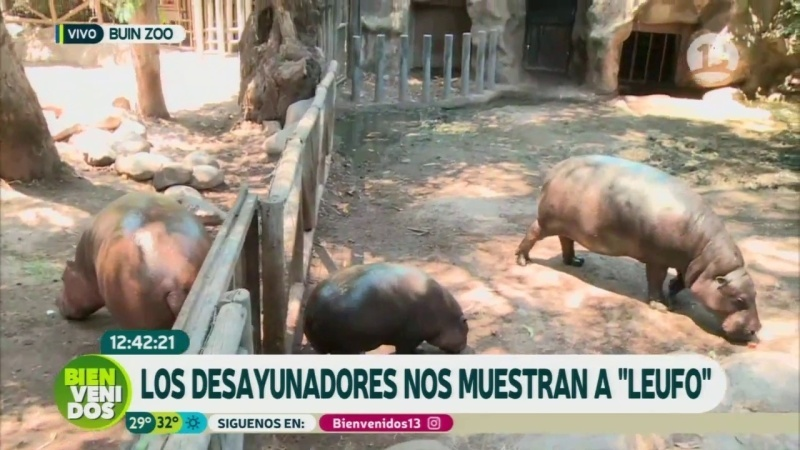hipopotamo: (493, 143, 765, 345), (37, 192, 221, 337), (297, 260, 483, 352)
